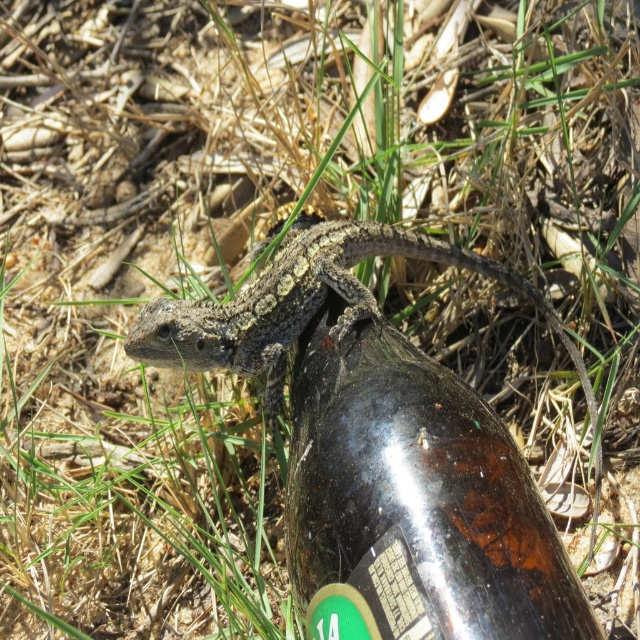Lizard: (124, 215, 594, 484)
